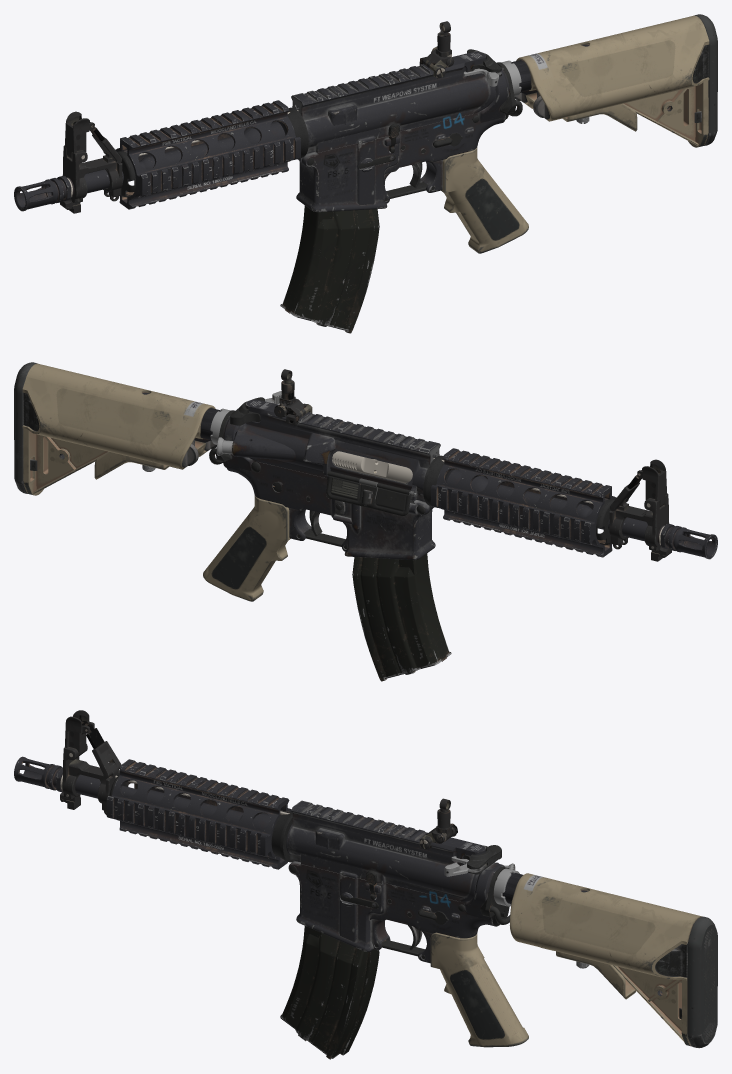
3 renders of one model, top to bottom at view 1: azimuth 30°, elevation 25°; view 2: azimuth 150°, elevation 25°; view 3: azimuth 330°, elevation 25°, orthographic.
Visible parts, largest first — view 1: Body 1, Stock 1, Short Barrel 1, Magazine, Folding Sight, Body 2, Short Barrel 2, Sight; view 2: Body 1, Stock 1, Short Barrel 1, Magazine, Folding Sight, Body 3, Short Barrel 2, Barrel, Sight, Body 2; view 3: Body 1, Stock 1, Short Barrel 1, Magazine, Folding Sight, Body 2, Short Barrel 2, Sight.
Boxes of the visible parts, x1,y1,x2,y2 form: Body 1: [291, 51, 528, 253]; Stock 1: [515, 14, 717, 147]; Short Barrel 1: [67, 100, 308, 209]; Magazine: [280, 205, 379, 333]; Folding Sight: [60, 111, 122, 213]; Body 2: [358, 49, 501, 188]; Short Barrel 2: [14, 176, 71, 211]; Sight: [419, 21, 454, 78]; Body 1: [203, 399, 440, 601]; Stock 1: [14, 362, 216, 495]; Short Barrel 1: [423, 448, 664, 557]; Magazine: [352, 553, 451, 681]; Folding Sight: [609, 459, 671, 561]; Body 3: [323, 471, 416, 515]; Short Barrel 2: [660, 523, 717, 559]; Barrel: [332, 451, 412, 483]; Sight: [274, 369, 312, 425]; Body 2: [230, 391, 345, 536]; Body 1: [287, 800, 528, 1047]; Stock 1: [509, 873, 717, 1048]; Short Barrel 1: [60, 759, 293, 869]; Magazine: [280, 926, 379, 1059]; Folding Sight: [60, 710, 121, 814]; Body 2: [340, 845, 501, 949]; Short Barrel 2: [14, 756, 63, 792]; Sight: [419, 798, 457, 849].
Bounding box in the file's own units: 4756 × 1834 × 566.
Materials: 7 (7 with a texture image).
